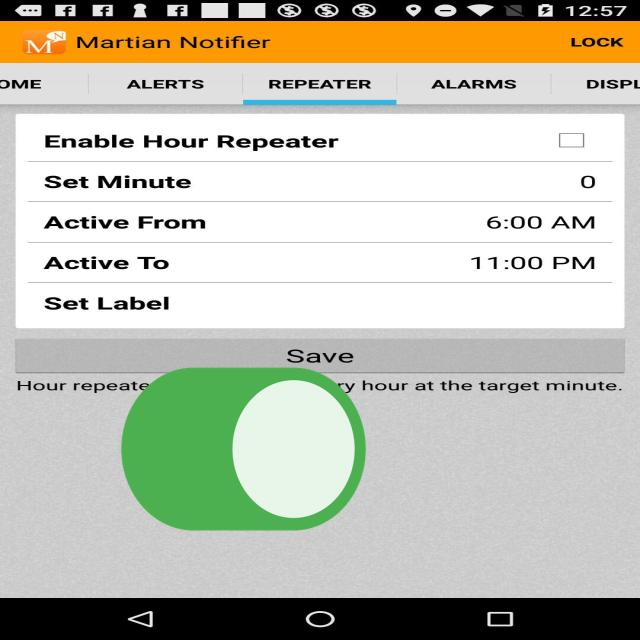social proof: (110, 305, 377, 606)
